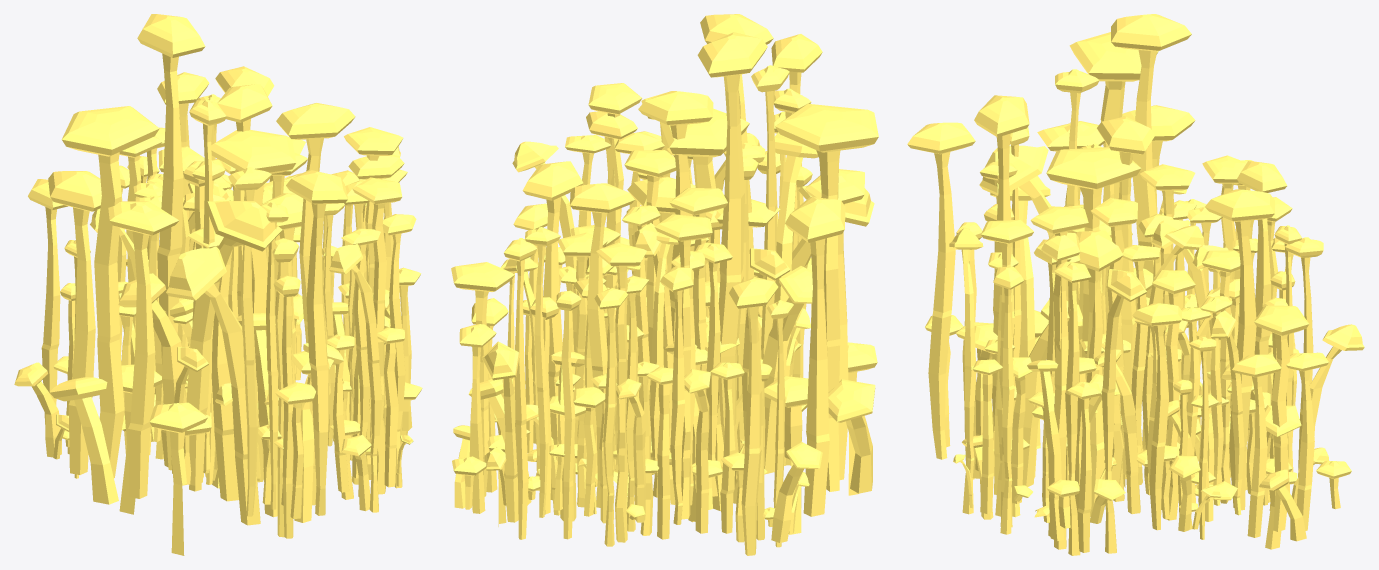
File: Golden needle.fbx
The picture shows the model from 3 angles, left to right: view 1: azimuth 30°, elevation 25°; view 2: azimuth 150°, elevation 25°; view 3: azimuth 270°, elevation 25°; orthographic projection. The views are drawn at different scales.
Visible parts, largest first — view 1: Enokidake, Enokitake, Golden needle mushroom; view 2: Enokidake, Enokitake, Golden needle mushroom; view 3: Enokidake, Enokitake, Golden needle mushroom.
Part boxes in pixels (<box>): Enokidake, Enokitake, Golden needle mushroom: <box>14,14,422,555</box>; Enokidake, Enokitake, Golden needle mushroom: <box>451,14,878,555</box>; Enokidake, Enokitake, Golden needle mushroom: <box>907,14,1364,555</box>.
Bounding box in the file's own units: 342 × 434 × 388.
